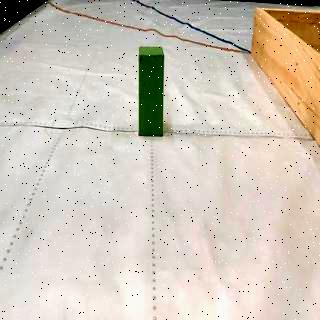greenbox: (137, 44, 165, 138)
